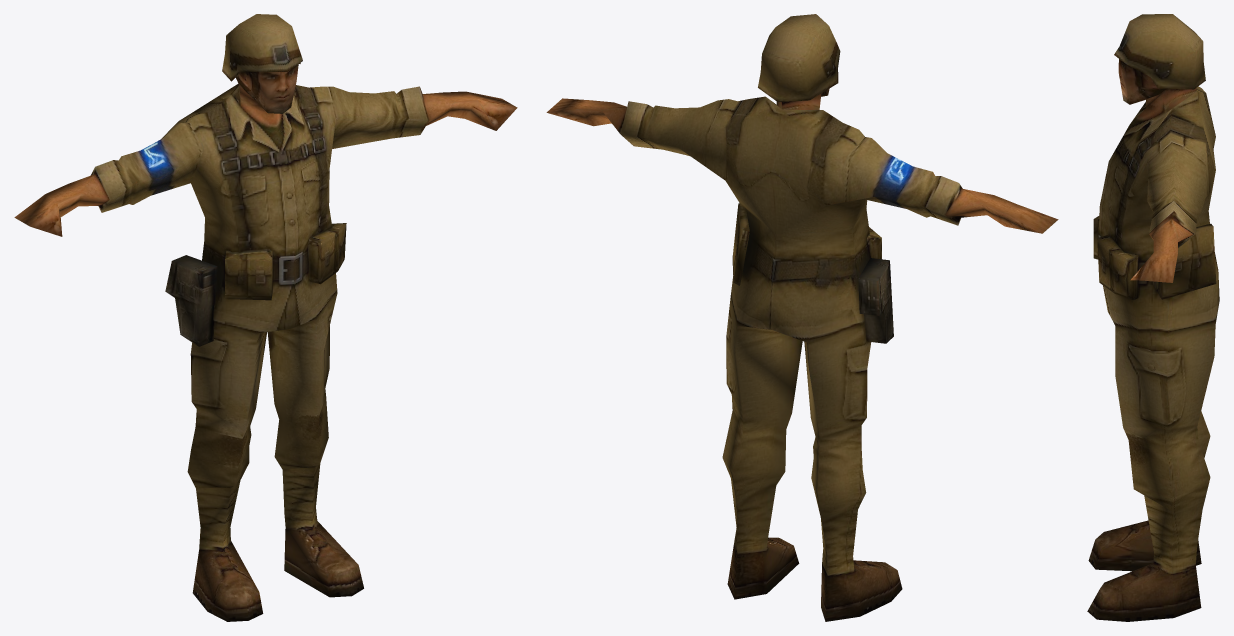
File: 3D-модель_военного_солдата_basecolor.fbx
3 renders of one model, left to right at view 1: azimuth 30°, elevation 25°; view 2: azimuth 150°, elevation 25°; view 3: azimuth 270°, elevation 25°, orthographic.
Parts seen in each view (by area): view 1: tripo_node_d126e856; view 2: tripo_node_d126e856; view 3: tripo_node_d126e856.
Boxes of the visible parts, x1,y1,x2,y2 form: tripo_node_d126e856: (14, 14, 517, 621); tripo_node_d126e856: (546, 14, 1058, 621); tripo_node_d126e856: (1087, 14, 1219, 621).
Size of the model in its own units: 0.9067 by 0.9995 by 0.2114.
1 material, 1 textured.
